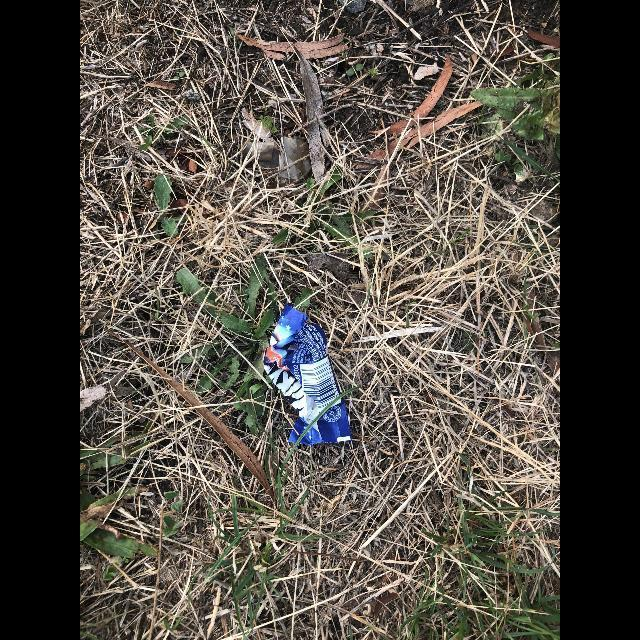Plastic: (262, 302, 352, 444), (280, 136, 310, 184), (244, 142, 274, 160)
